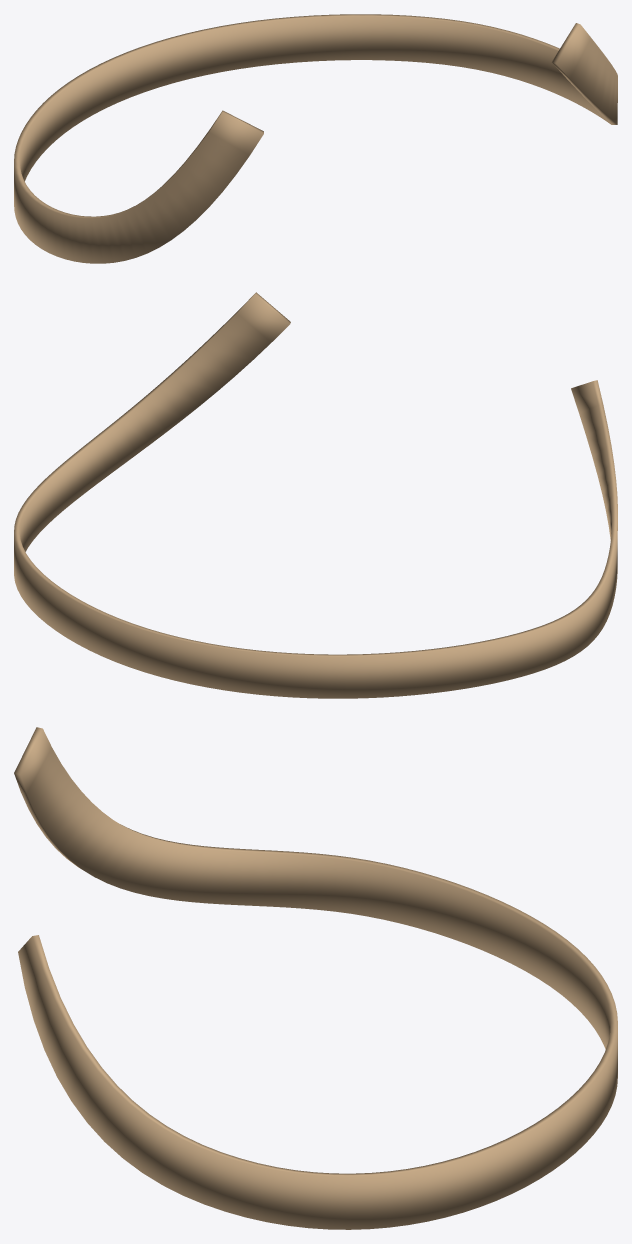
The model's file is camera_strap.glb.
The picture shows the model from 3 angles, top to bottom: view 1: azimuth 30°, elevation 25°; view 2: azimuth 150°, elevation 25°; view 3: azimuth 270°, elevation 25°; orthographic projection. The views are drawn at different scales.
Parts seen in each view (by area): view 1: camera_strap; view 2: camera_strap; view 3: camera_strap.
Boxes of the visible parts, x1=… form: camera_strap: x1=14, y1=14, x2=617, y2=263; camera_strap: x1=14, y1=292, x2=617, y2=698; camera_strap: x1=14, y1=727, x2=617, y2=1229.
Bounding box in the file's own units: 0.239 × 0.0788 × 0.1855.
